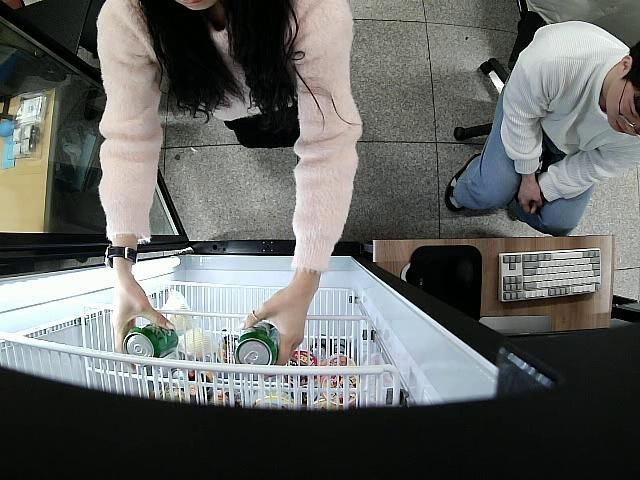12_chilsungCider: (122, 323, 178, 367), (234, 321, 279, 365)
